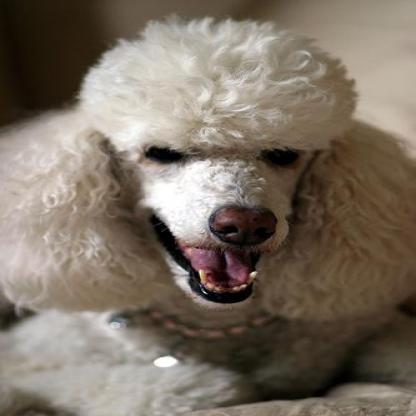standard_poodle: (0, 12, 412, 413)
